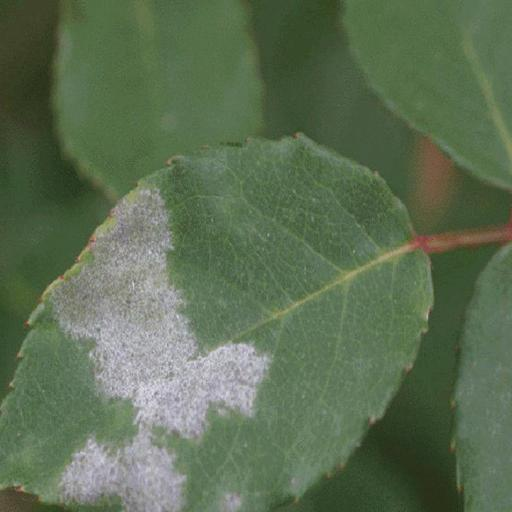powdery_mildew: (0, 135, 432, 512)
